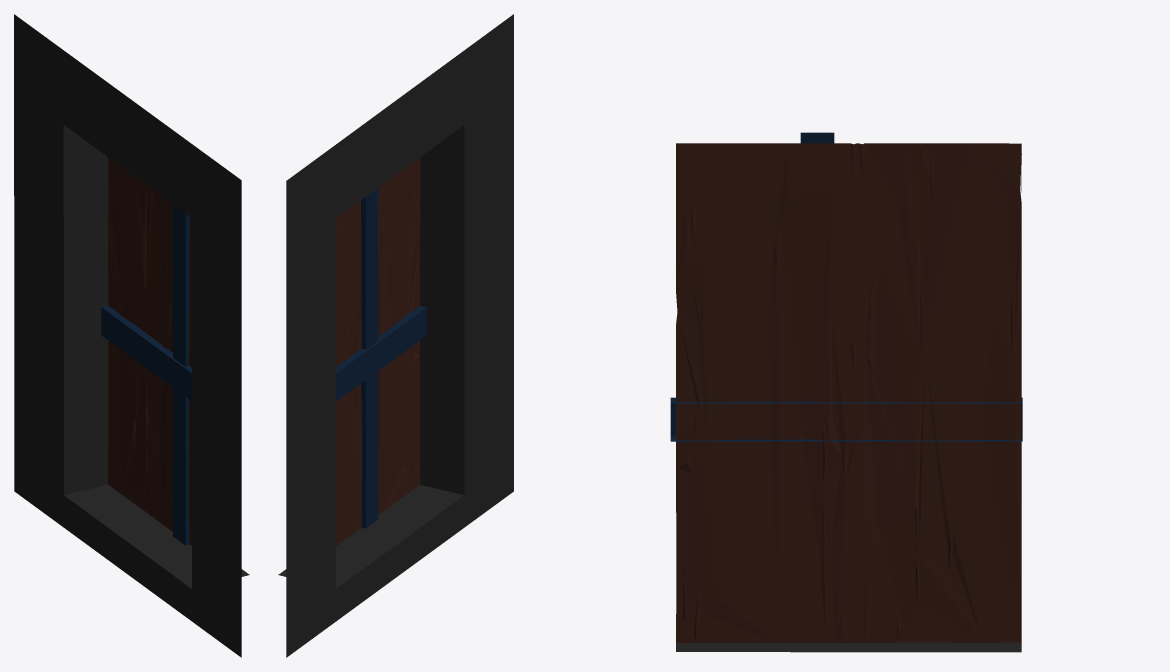
Rendered from standard_door_8.FBX.
The picture shows the model from 3 angles, left to right: view 1: azimuth 30°, elevation 25°; view 2: azimuth 150°, elevation 25°; view 3: azimuth 270°, elevation 25°; orthographic projection. The views are drawn at different scales.
Visible parts, largest first — view 1: standard_door_8; view 2: standard_door_8; view 3: standard_door_8.
Boxes of the visible parts, bbox=[...] form: standard_door_8: bbox=[14, 14, 249, 657]; standard_door_8: bbox=[278, 14, 513, 657]; standard_door_8: bbox=[670, 132, 1022, 652].
Bounding box in the file's own units: 39.87 × 313 × 271.
